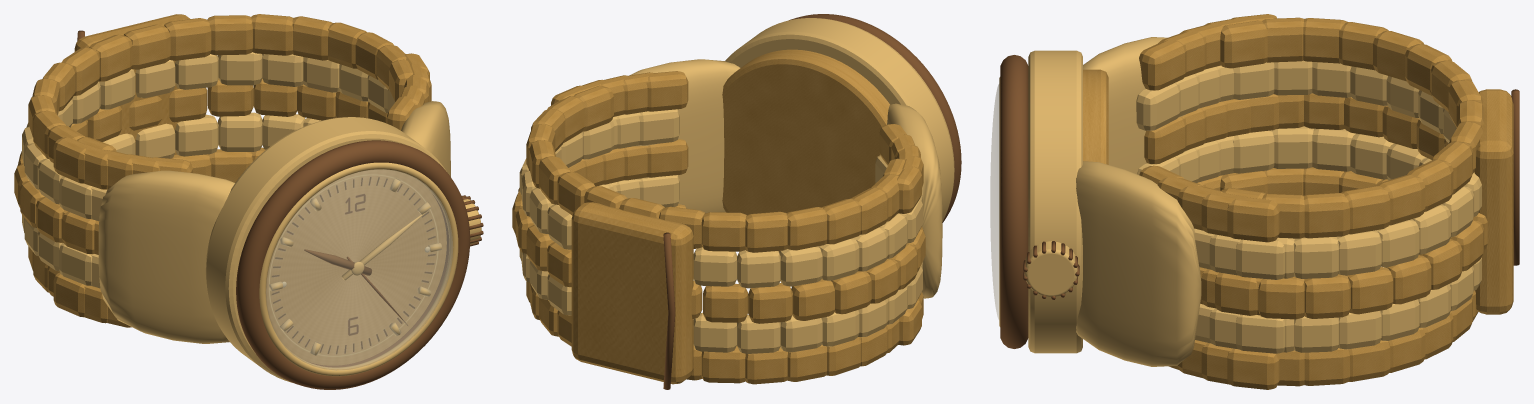
Rendered from haoge-watch.glb.
The picture shows the model from 3 angles, left to right: view 1: azimuth 30°, elevation 25°; view 2: azimuth 150°, elevation 25°; view 3: azimuth 270°, elevation 25°; orthographic projection. The views are drawn at different scales.
Visible parts, largest first — view 1: WristMount / Polished gold chamfers, WristMount / Yellow gold brushed link faces, WatchCase / Warm glass crystal, WatchDial / Gold sunburst dial and minute print, WatchCase / Polished gold chamfers, WatchCase / Dark gold recess, WatchDial / Polished gold chamfers, WatchHands / Polished gold chamfers, WatchHands / Engraved minute hand; view 2: WristMount / Yellow gold brushed link faces, WristMount / Polished gold chamfers, WatchCase / Yellow gold brushed link faces, WatchCase / Polished gold chamfers, WatchCase / Dark gold recess, WristMount / Dark gold recess; view 3: WristMount / Yellow gold brushed link faces, WristMount / Polished gold chamfers, WatchCase / Polished gold chamfers, WatchCase / Dark gold recess, WatchCase / Yellow gold brushed link faces, WatchCase / Warm glass crystal, WristMount / Dark gold recess.
Part boxes in pixels (x1,y1,x2,y2): WristMount / Polished gold chamfers: (22, 52, 450, 343); WristMount / Yellow gold brushed link faces: (14, 14, 431, 327); WatchCase / Warm glass crystal: (266, 169, 453, 370); WatchDial / Gold sunburst dial and minute print: (266, 169, 446, 365); WatchCase / Polished gold chamfers: (205, 117, 481, 382); WatchCase / Dark gold recess: (236, 140, 483, 389); WatchDial / Polished gold chamfers: (269, 178, 441, 355); WatchHands / Polished gold chamfers: (341, 213, 424, 280); WatchHands / Engraved minute hand: (304, 249, 371, 275); WristMount / Yellow gold brushed link faces: (512, 71, 925, 384); WristMount / Polished gold chamfers: (519, 59, 942, 353); WatchCase / Yellow gold brushed link faces: (722, 49, 889, 252); WatchCase / Polished gold chamfers: (725, 18, 954, 221); WatchCase / Dark gold recess: (789, 14, 961, 223); WristMount / Dark gold recess: (663, 232, 675, 389); WristMount / Yellow gold brushed link faces: (1139, 14, 1513, 389); WristMount / Polished gold chamfers: (1076, 37, 1481, 366); WatchCase / Polished gold chamfers: (999, 50, 1082, 353); WatchCase / Dark gold recess: (1000, 55, 1079, 348); WatchCase / Yellow gold brushed link faces: (1083, 69, 1108, 164); WatchCase / Warm glass crystal: (990, 84, 999, 319); WristMount / Dark gold recess: (1511, 89, 1519, 265).
Size of the model in its own units: 0.0755 by 0.0476 by 0.0833.
Materials: 7 (2 with a texture image).
